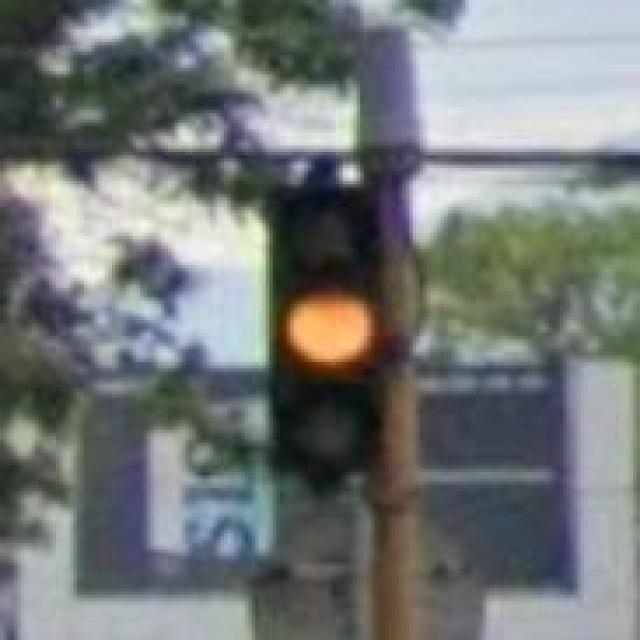yellow_light: (266, 187, 388, 472)
